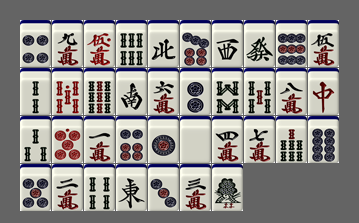0m: (84, 20, 115, 67)
0p: (52, 116, 83, 163)
0s: (52, 68, 83, 115)
1m: (84, 116, 115, 163)
1p: (148, 116, 179, 163)
1s: (212, 164, 243, 211)
1z: (116, 164, 147, 211)
2m: (52, 164, 83, 211)
2p: (180, 68, 211, 115)
2s: (20, 68, 51, 115)
2z: (116, 68, 147, 115)
3m: (180, 164, 211, 211)
3p: (148, 164, 179, 211)
3s: (20, 116, 51, 163)
3z: (212, 20, 243, 67)
4m: (212, 116, 243, 163)
4p: (20, 20, 51, 67)
4s: (84, 164, 115, 211)
4z: (148, 20, 179, 67)
5m: (308, 20, 339, 67)
5p: (20, 164, 51, 211)
5s: (244, 68, 275, 115)
5z: (180, 116, 211, 163)
6m: (148, 68, 179, 115)
6p: (116, 116, 147, 163)
6s: (116, 20, 147, 67)
6z: (244, 20, 275, 67)
7m: (244, 116, 275, 163)
7p: (180, 20, 211, 67)
7s: (276, 116, 307, 163)
7z: (308, 68, 339, 115)
8m: (276, 68, 307, 115)
8p: (308, 116, 339, 163)
8s: (212, 68, 243, 115)
9m: (52, 20, 83, 67)
9p: (276, 20, 307, 67)
9s: (84, 68, 115, 115)
